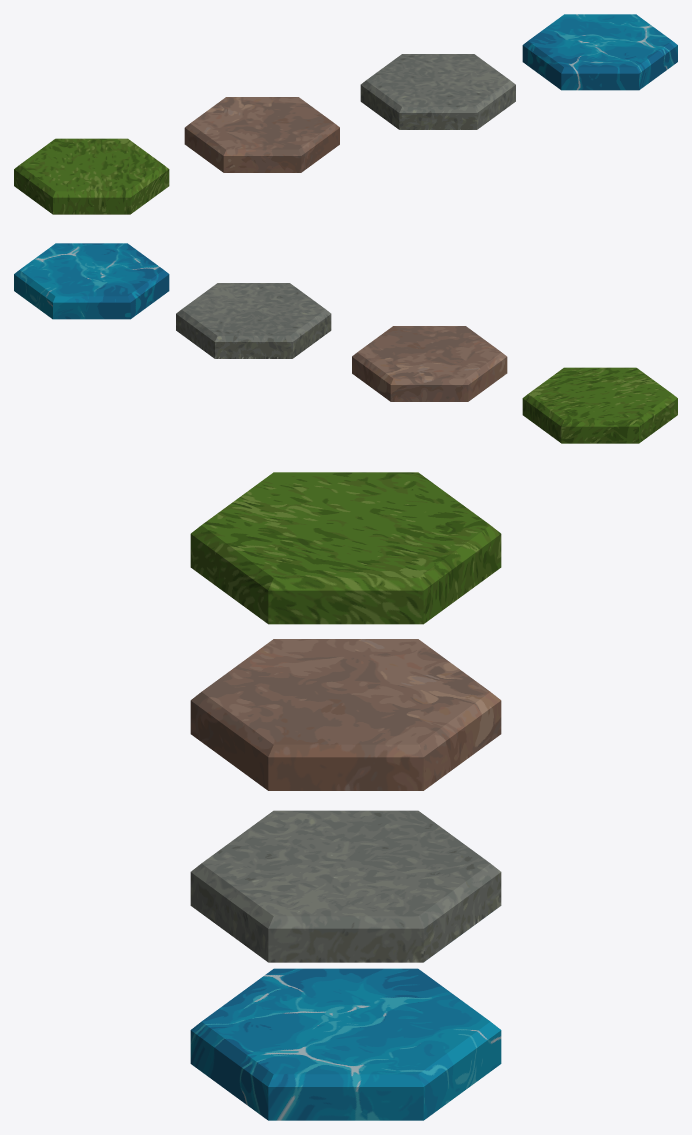
Rendered from Hexagons.fbx.
3 views of the same model, one above another, from view 1: azimuth 30°, elevation 25°; view 2: azimuth 150°, elevation 25°; view 3: azimuth 270°, elevation 25° (orthographic). The views are drawn at different scales.
Parts seen in each view (by area): view 1: H7, H8, H5, H6; view 2: H7, H8, H5, H6; view 3: H5, H7, H8, H6.
Boxes of the visible parts, x1=… form: H7: x1=14, y1=138, x2=169, y2=214; H8: x1=522, y1=14, x2=677, y2=90; H5: x1=360, y1=54, x2=515, y2=129; H6: x1=184, y1=97, x2=339, y2=172; H7: x1=522, y1=367, x2=677, y2=443; H8: x1=14, y1=243, x2=169, y2=319; H5: x1=176, y1=283, x2=331, y2=358; H6: x1=352, y1=326, x2=507, y2=401; H5: x1=190, y1=810, x2=501, y2=962; H7: x1=190, y1=472, x2=501, y2=624; H8: x1=190, y1=968, x2=501, y2=1120; H6: x1=190, y1=639, x2=501, y2=790.
Bounding box in the file's own units: 929 × 30 × 200.
